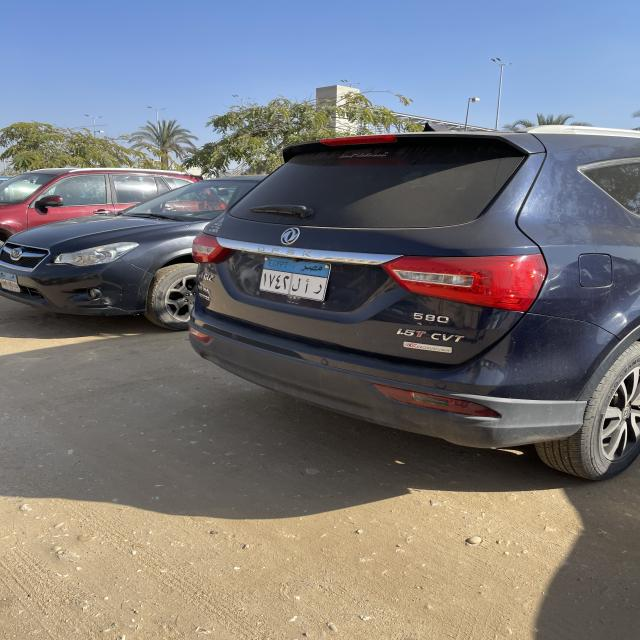License Plate: (259, 255, 331, 301), (0, 271, 21, 292)
